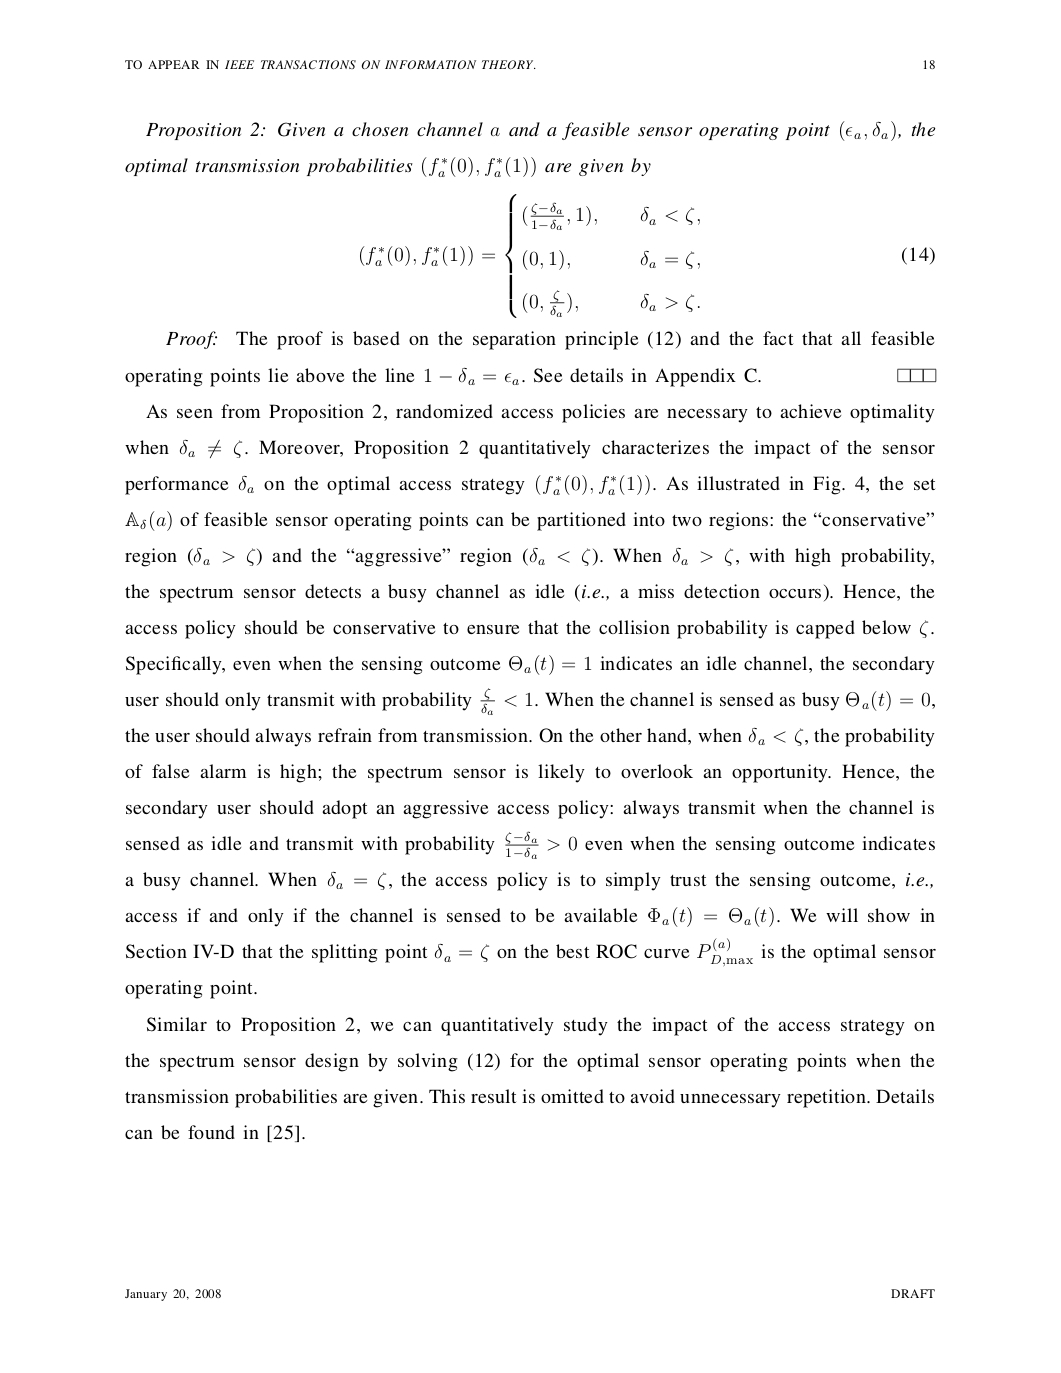formula: (360, 193, 934, 318)
